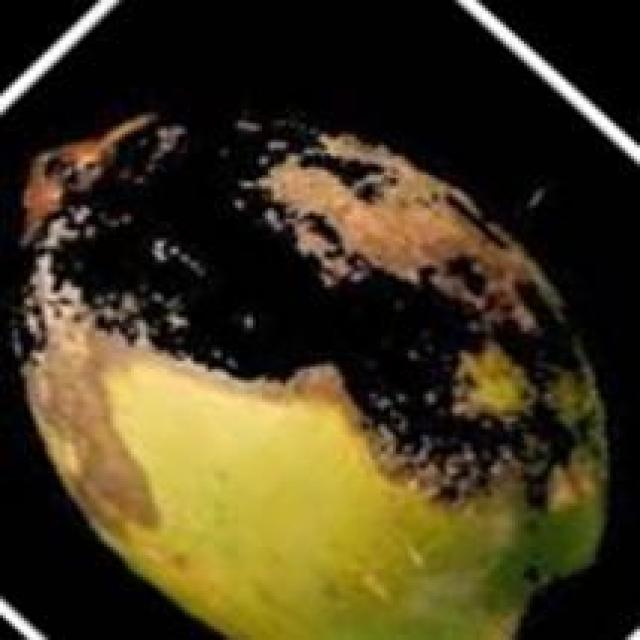damaged: (15, 107, 616, 637)
